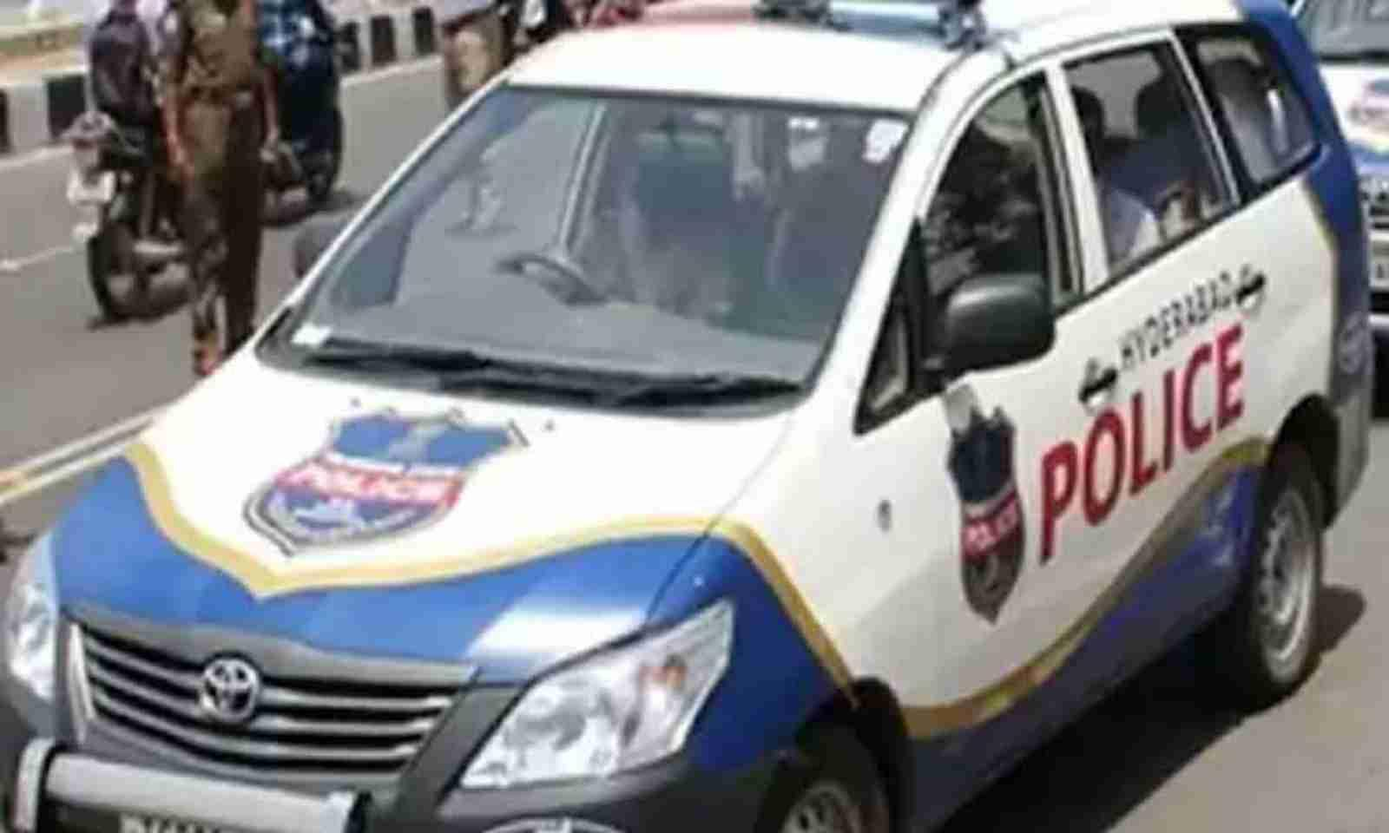Emergency-Vehicles: (15, 0, 1389, 833)
